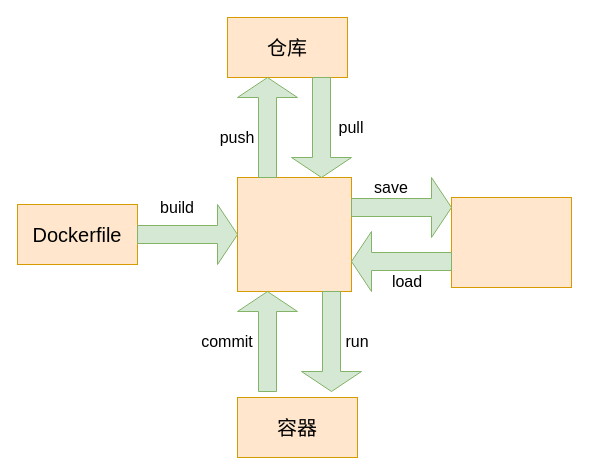
This 589x475 diagram has some shape labels left out. Each missing label, with the centre of its shape:
"tar文件" belongs at (x=511, y=242).
"镜像" belongs at (x=294, y=234).
